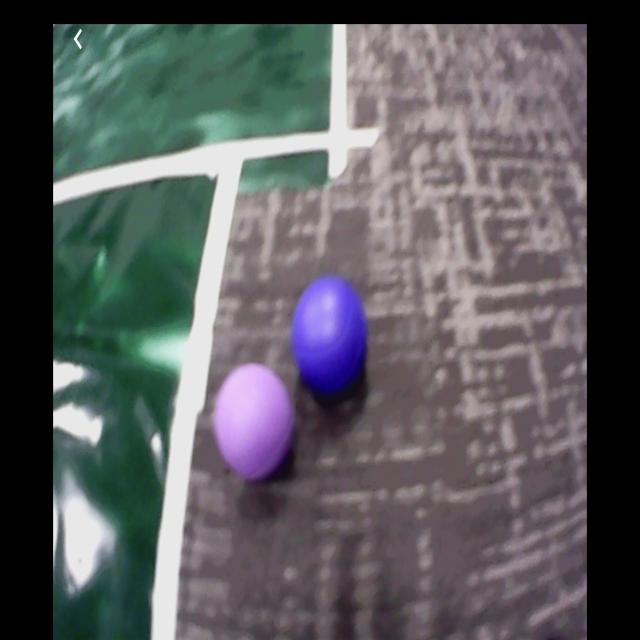ball: (294, 281, 369, 396), (216, 365, 292, 478)
